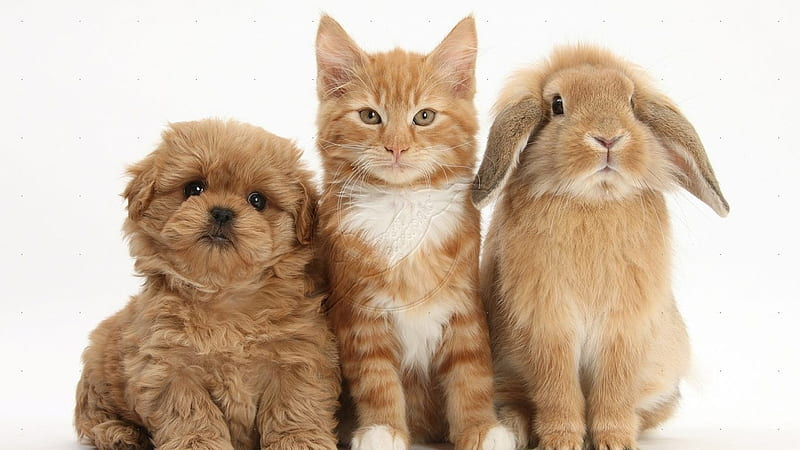cat: (312, 23, 504, 439)
dog: (112, 104, 325, 437)
rabbit: (496, 42, 698, 436)
